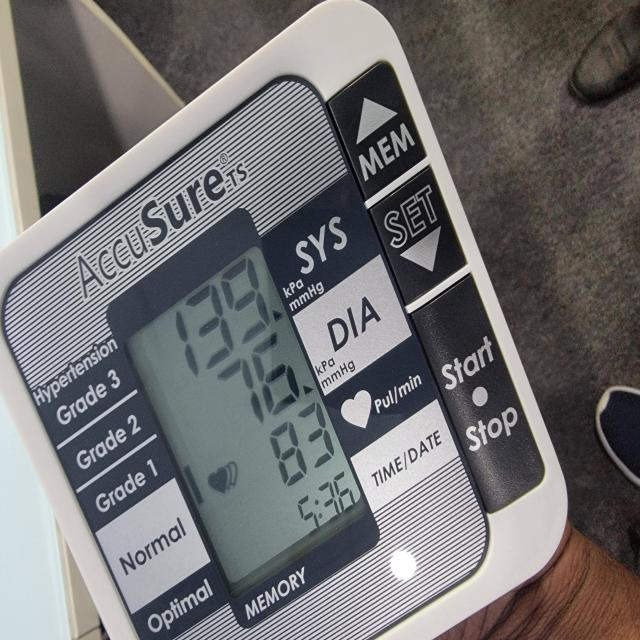bp: (0, 0, 568, 640)
